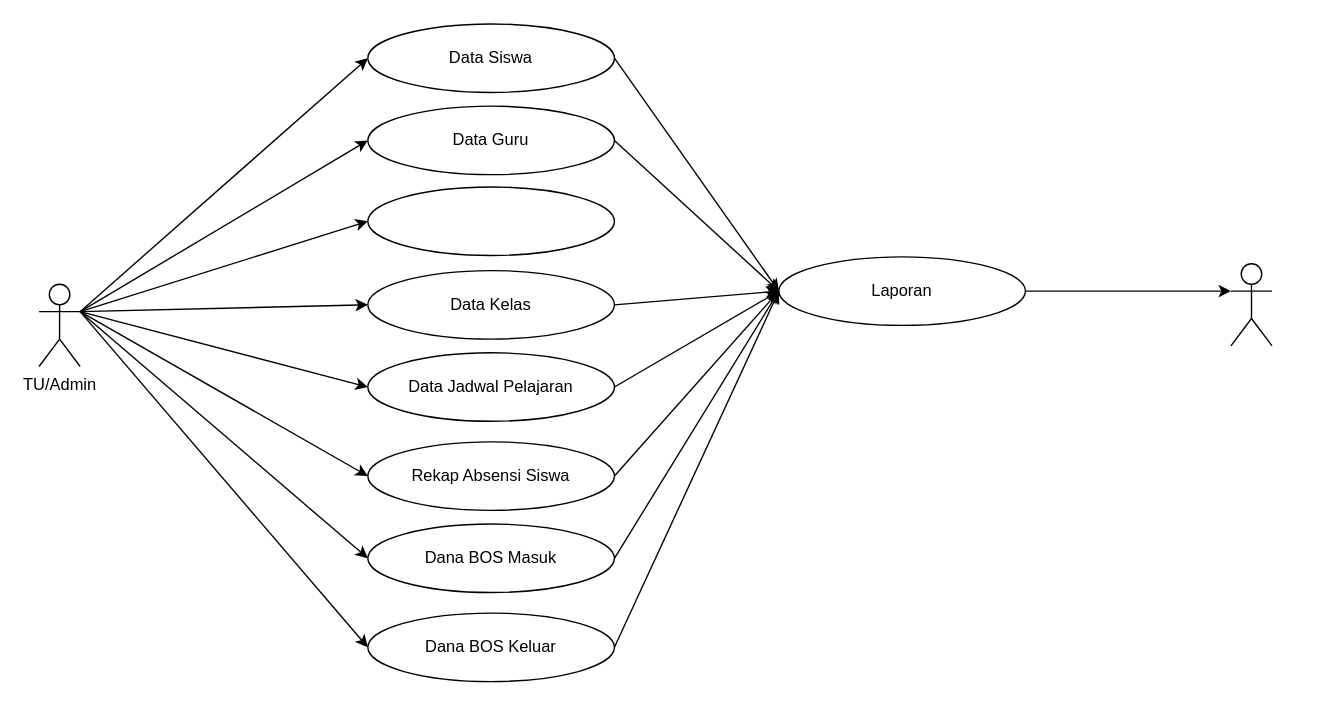
This 1333x706 diagram has some shape labels left out. The shapes that lost their labels are listed below. From the top down, each one's centre as x and y in pixels, then its label:
(490,221): Data User
(1251,304): Kepala Sekolah
